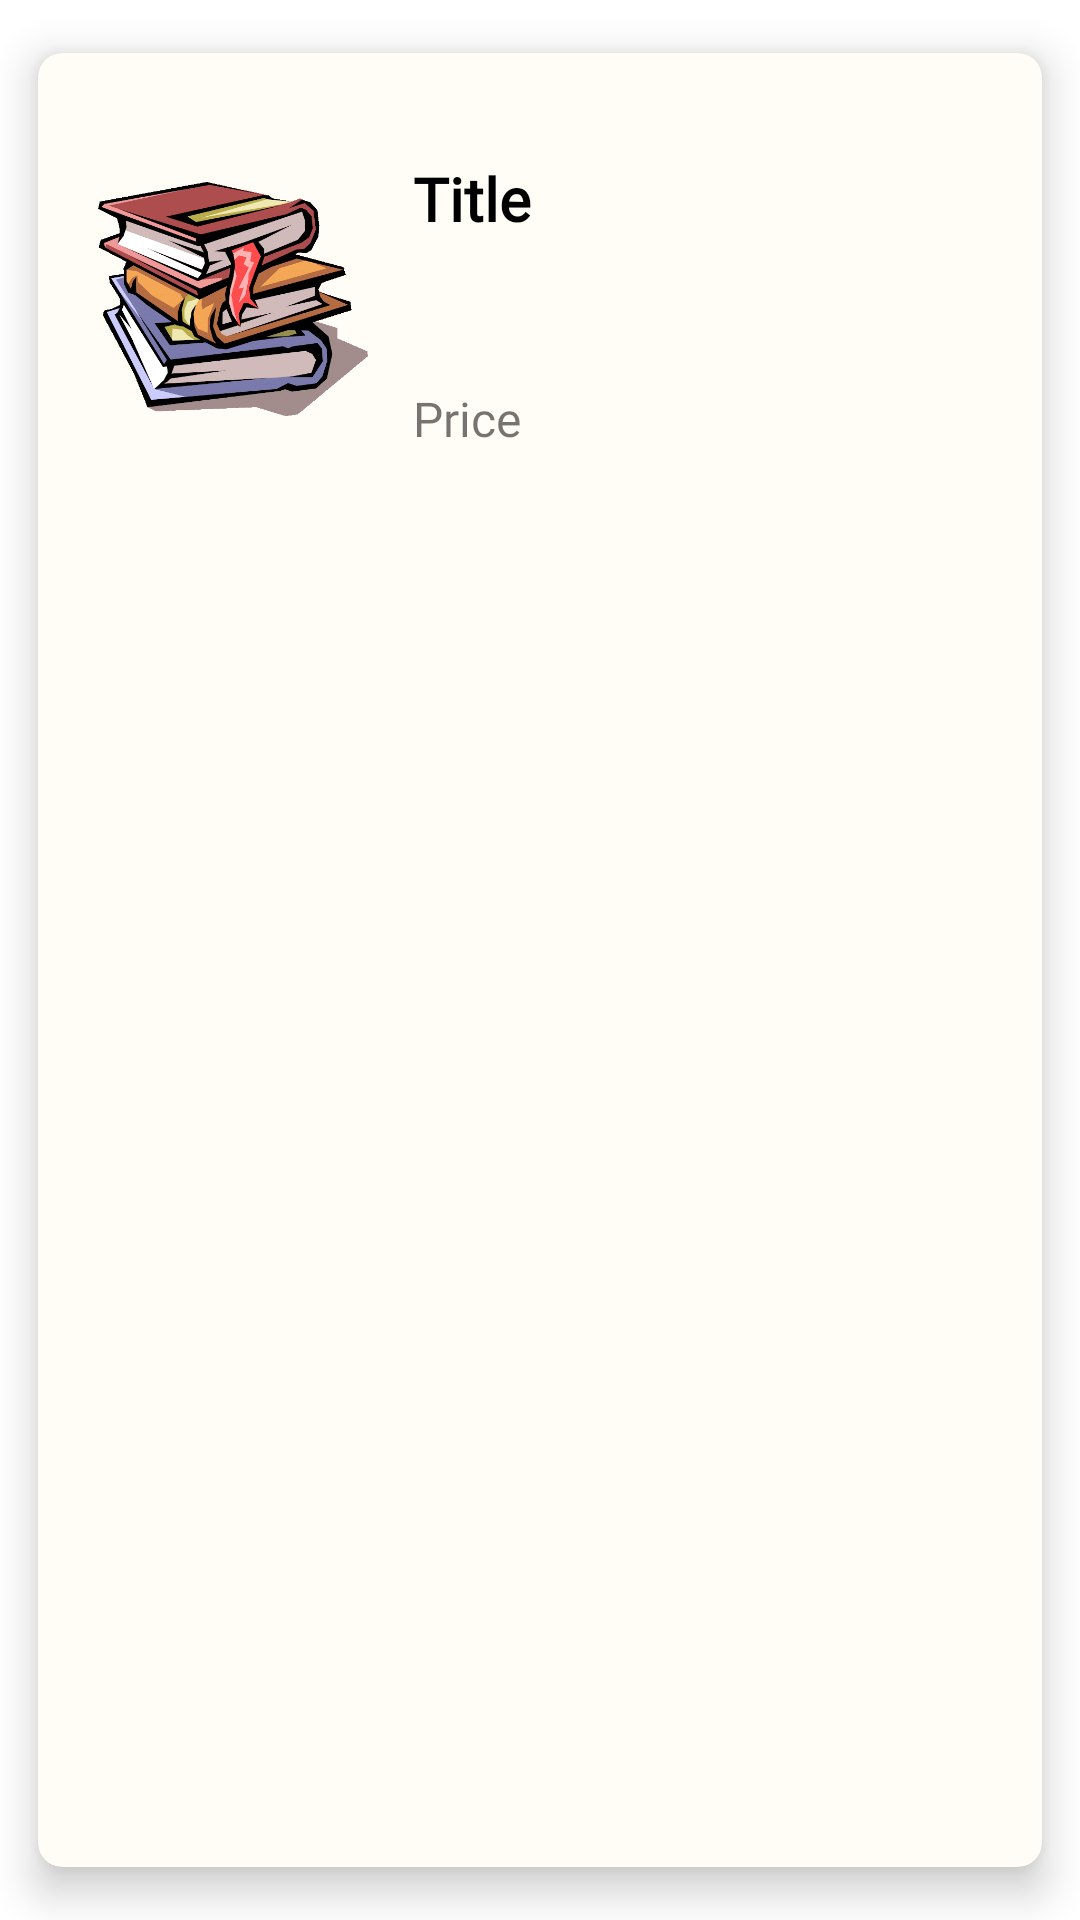

Named icons in this screenshot (1080px×1920px) and their centers, (x,y):
books: (233,299)
